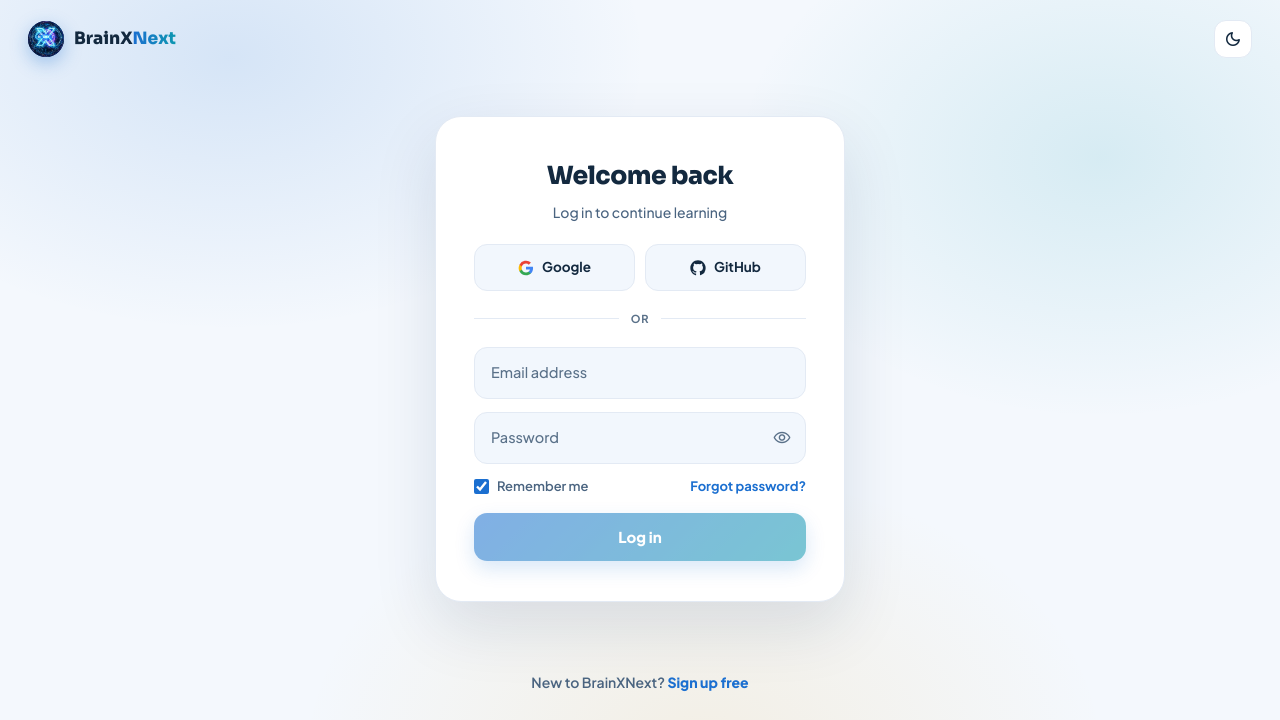
Test: <Login /> › asks an unverified account to verify first and remembers the email for the OTP screen
Type "new@email.com" into the field labelled "Email address".
click(640, 373); type("new@email.com")  # box [474, 347, 806, 399]
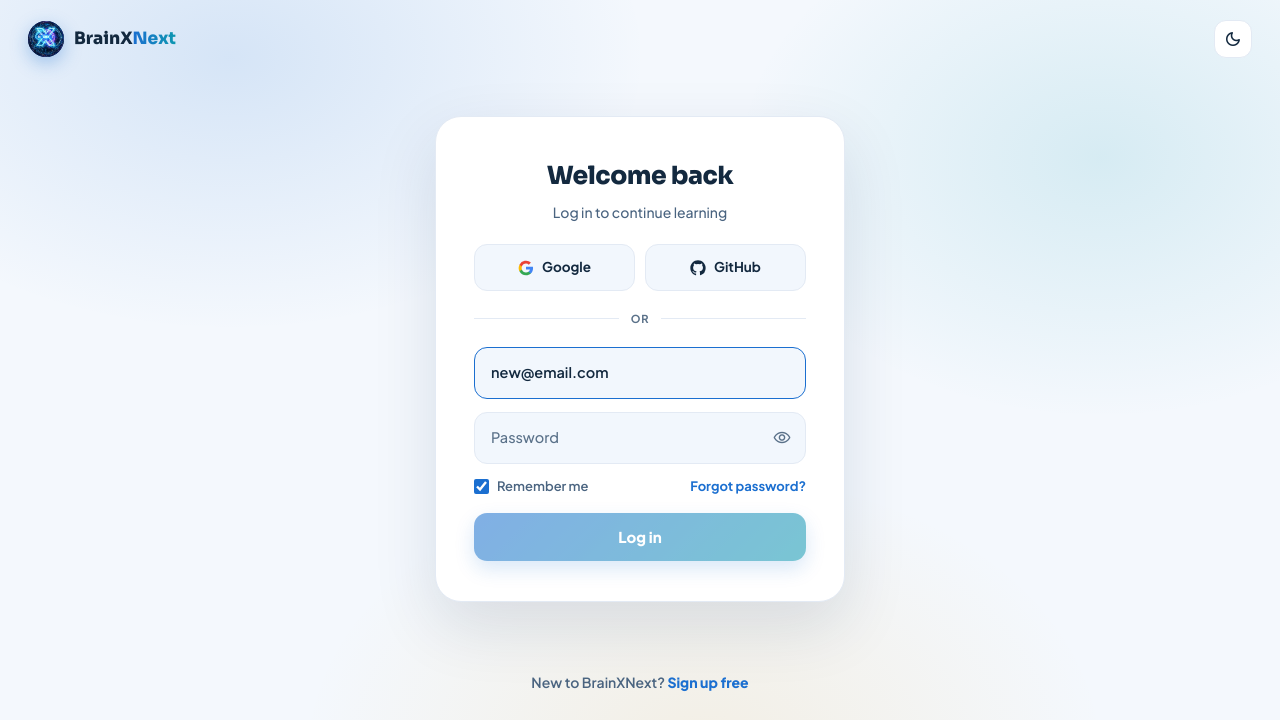
Type "password123" into the password field labelled "Password".
click(640, 438); type("password123")  # box [474, 412, 806, 464]
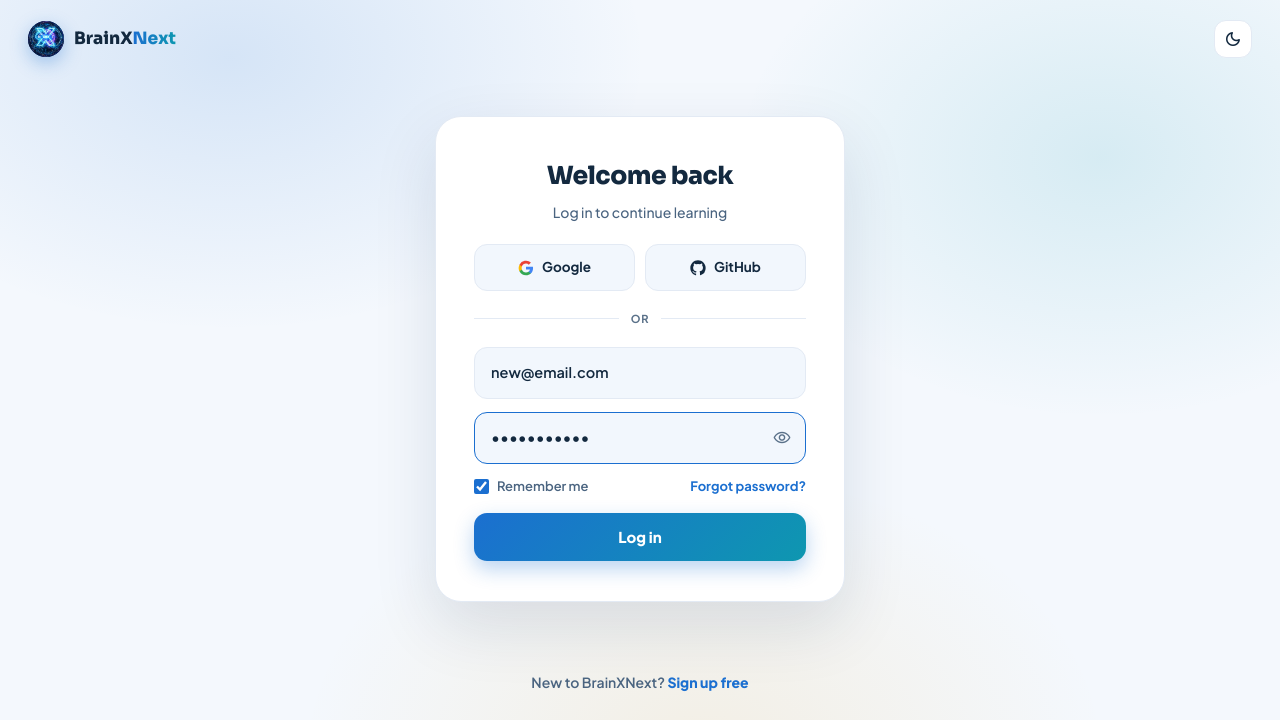
Click the button "Log in".
click(640, 537)  # box [474, 513, 806, 561]
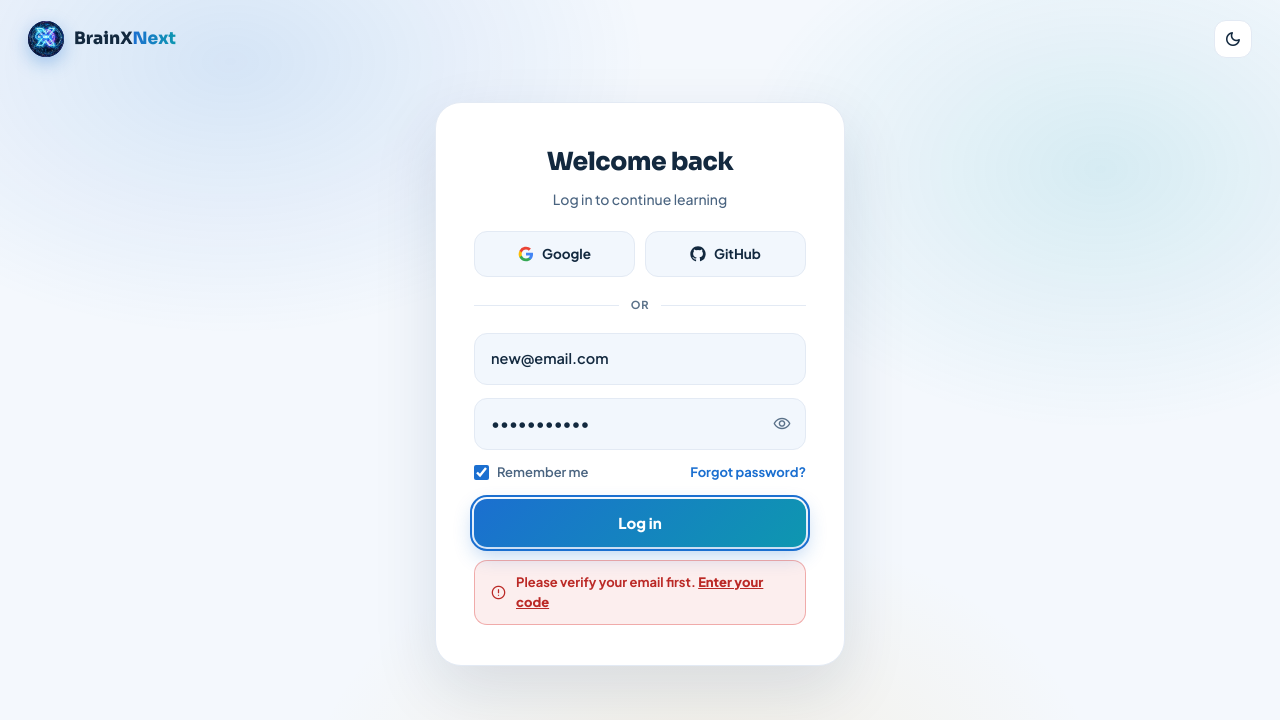
Expected: the message shows "Please verify your email first.", [516, 574, 696, 590]
